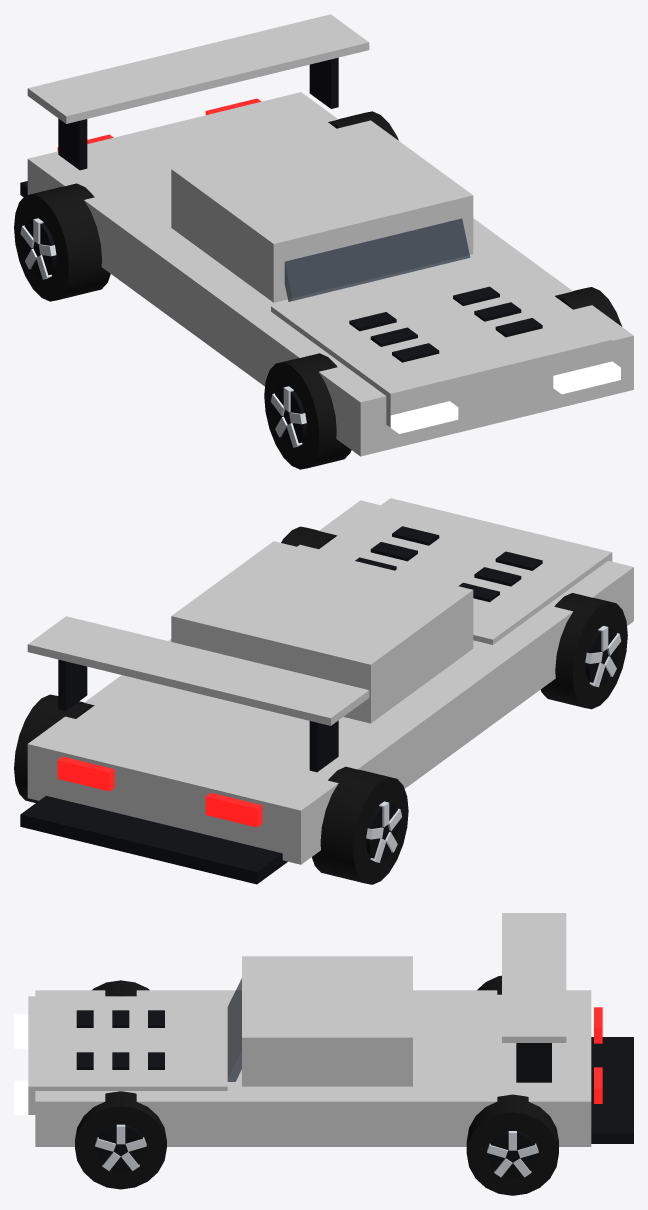
Rendered from ferocity-jackal.glb.
The picture shows the model from 3 angles, top to bottom: view 1: azimuth 30°, elevation 25°; view 2: azimuth 150°, elevation 25°; view 3: azimuth 270°, elevation 25°; orthographic projection. The views are drawn at different scales.
Parts seen in each view (by area): view 1: chassis, wheel-back-left, glass, wheel-front-left, wheel-front-right, wheel-back-right; view 2: chassis, wheel-back-left, wheel-front-left, wheel-back-right, wheel-front-right; view 3: chassis, wheel-back-right, wheel-front-right, glass, wheel-front-left.
Boxes of the visible parts, x1,y1,x2,y2 form: chassis: (20, 14, 633, 456); wheel-back-left: (14, 183, 110, 301); glass: (284, 218, 469, 301); wheel-front-left: (264, 353, 351, 469); wheel-front-right: (555, 287, 622, 326); wheel-back-right: (328, 111, 398, 140); chassis: (20, 498, 633, 884); wheel-back-left: (312, 766, 408, 884); wheel-front-left: (540, 593, 627, 709); wheel-back-right: (14, 694, 94, 802); wheel-front-right: (281, 526, 337, 549); chassis: (14, 913, 633, 1146); wheel-back-right: (466, 1094, 558, 1195); wheel-front-right: (75, 1091, 166, 1189); glass: (227, 978, 241, 1081); wheel-front-left: (92, 980, 149, 996).
Bounding box in the file's own units: 2.37 × 1.18 × 4.35.
